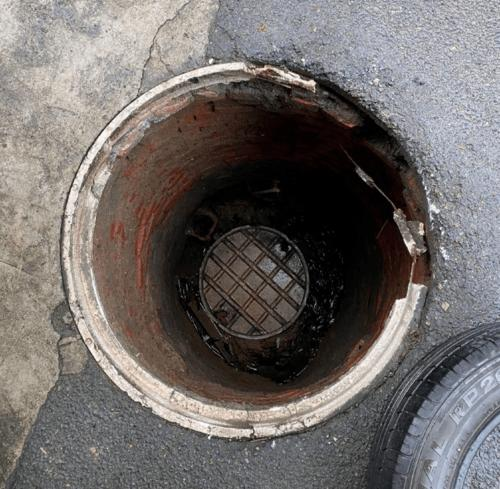lose: (47, 63, 443, 449)
